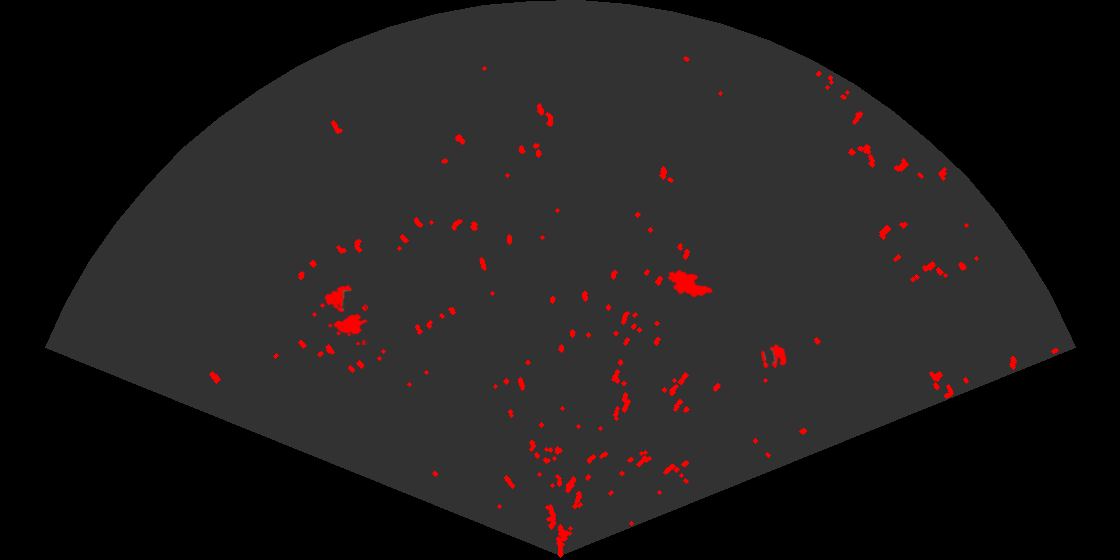AUV: (666, 268, 715, 299)
ball: (759, 343, 788, 370)
cage: (323, 283, 368, 345)
